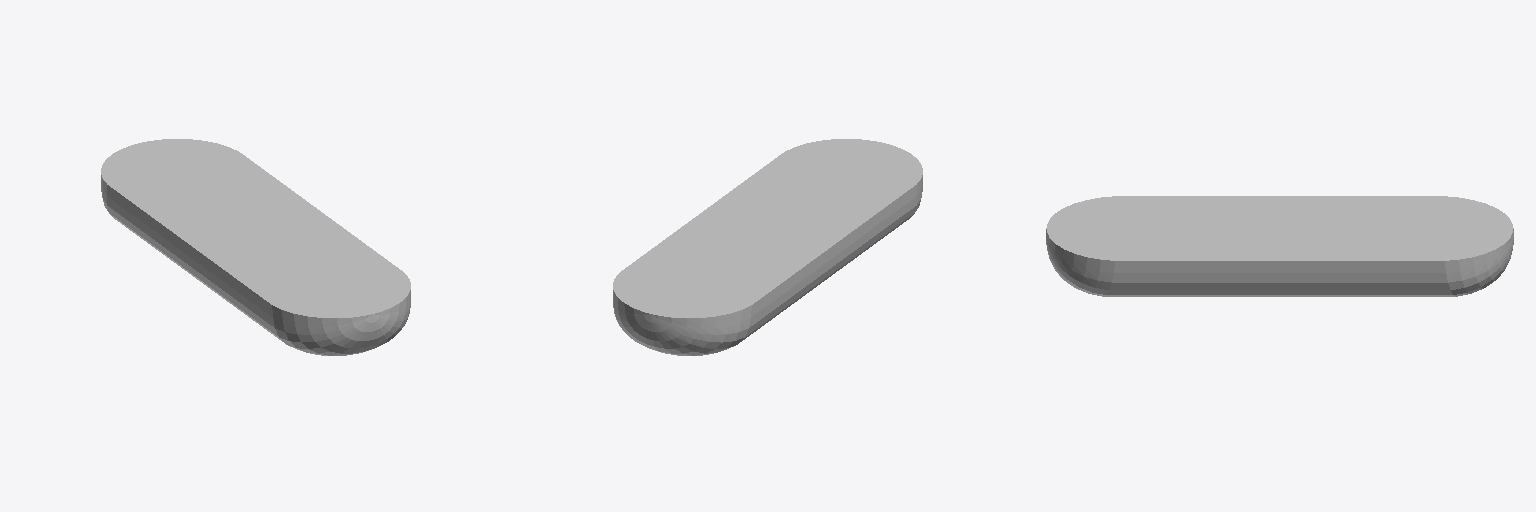
File: JoyStick.obj
3 views of the same model, side by side, from view 1: azimuth 30°, elevation 25°; view 2: azimuth 150°, elevation 25°; view 3: azimuth 270°, elevation 25° (orthographic).
Parts seen in each view (by area): view 1: Sphere002; view 2: Sphere002; view 3: Sphere002.
Part boxes in pixels (left/top/right/bottom): Sphere002: left=101, top=139, right=410, bottom=355; Sphere002: left=613, top=139, right=922, bottom=355; Sphere002: left=1046, top=196, right=1513, bottom=296.
Bounding box in the file's own units: 111 × 43.95 × 340.